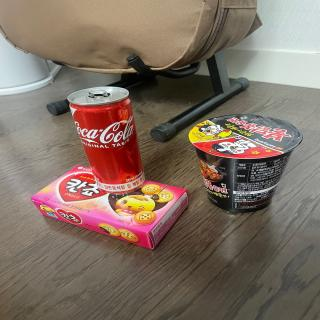cocacola: (62, 83, 153, 195)
